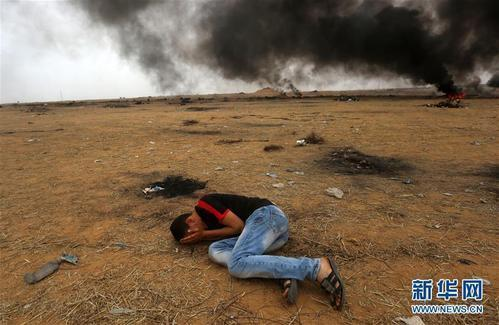Fall-Detected: (158, 186, 349, 309)
